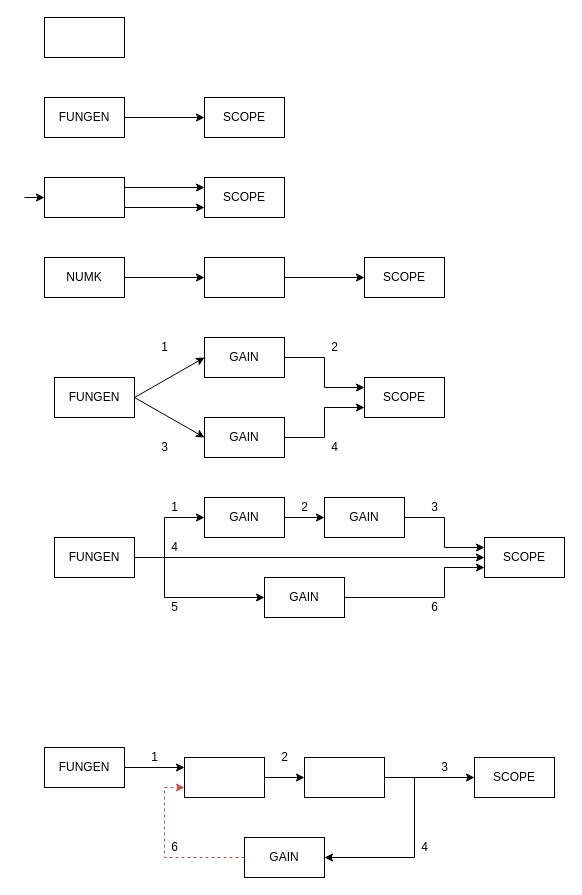
The diagram is 582 pixels wide and 895 high, and some of its shapes have lost their labels. Here are the shapes that lost their labels. From the top down, the centre of each, then its label:
At (84,37): "CAN_CNFG".
At (84,197): "DEMUX".
At (244,277): "SERVER".
At (224,777): "SUM".
At (344,777): "K * G".
